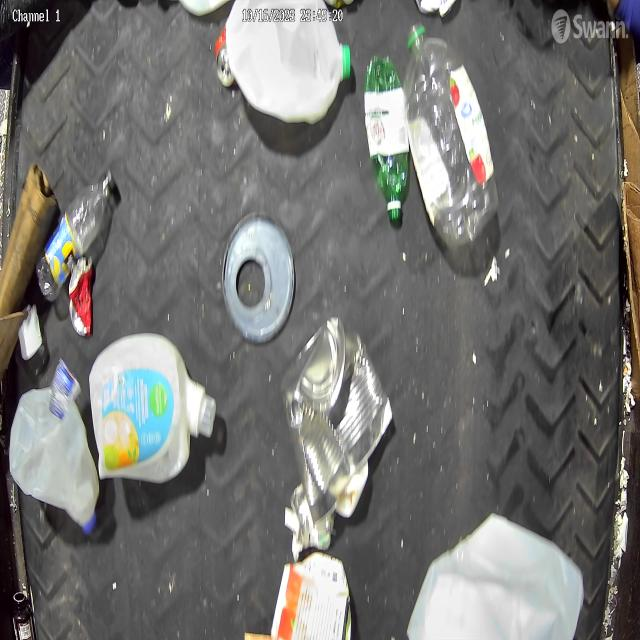can: (288, 321, 391, 503), (270, 552, 352, 640), (70, 260, 96, 337), (411, 1, 462, 18)
milk_jug: (410, 513, 586, 640), (92, 333, 203, 481), (225, 10, 353, 126), (8, 388, 100, 533), (156, 1, 250, 20)
plastic_bottle: (405, 25, 498, 248), (36, 174, 116, 294)
